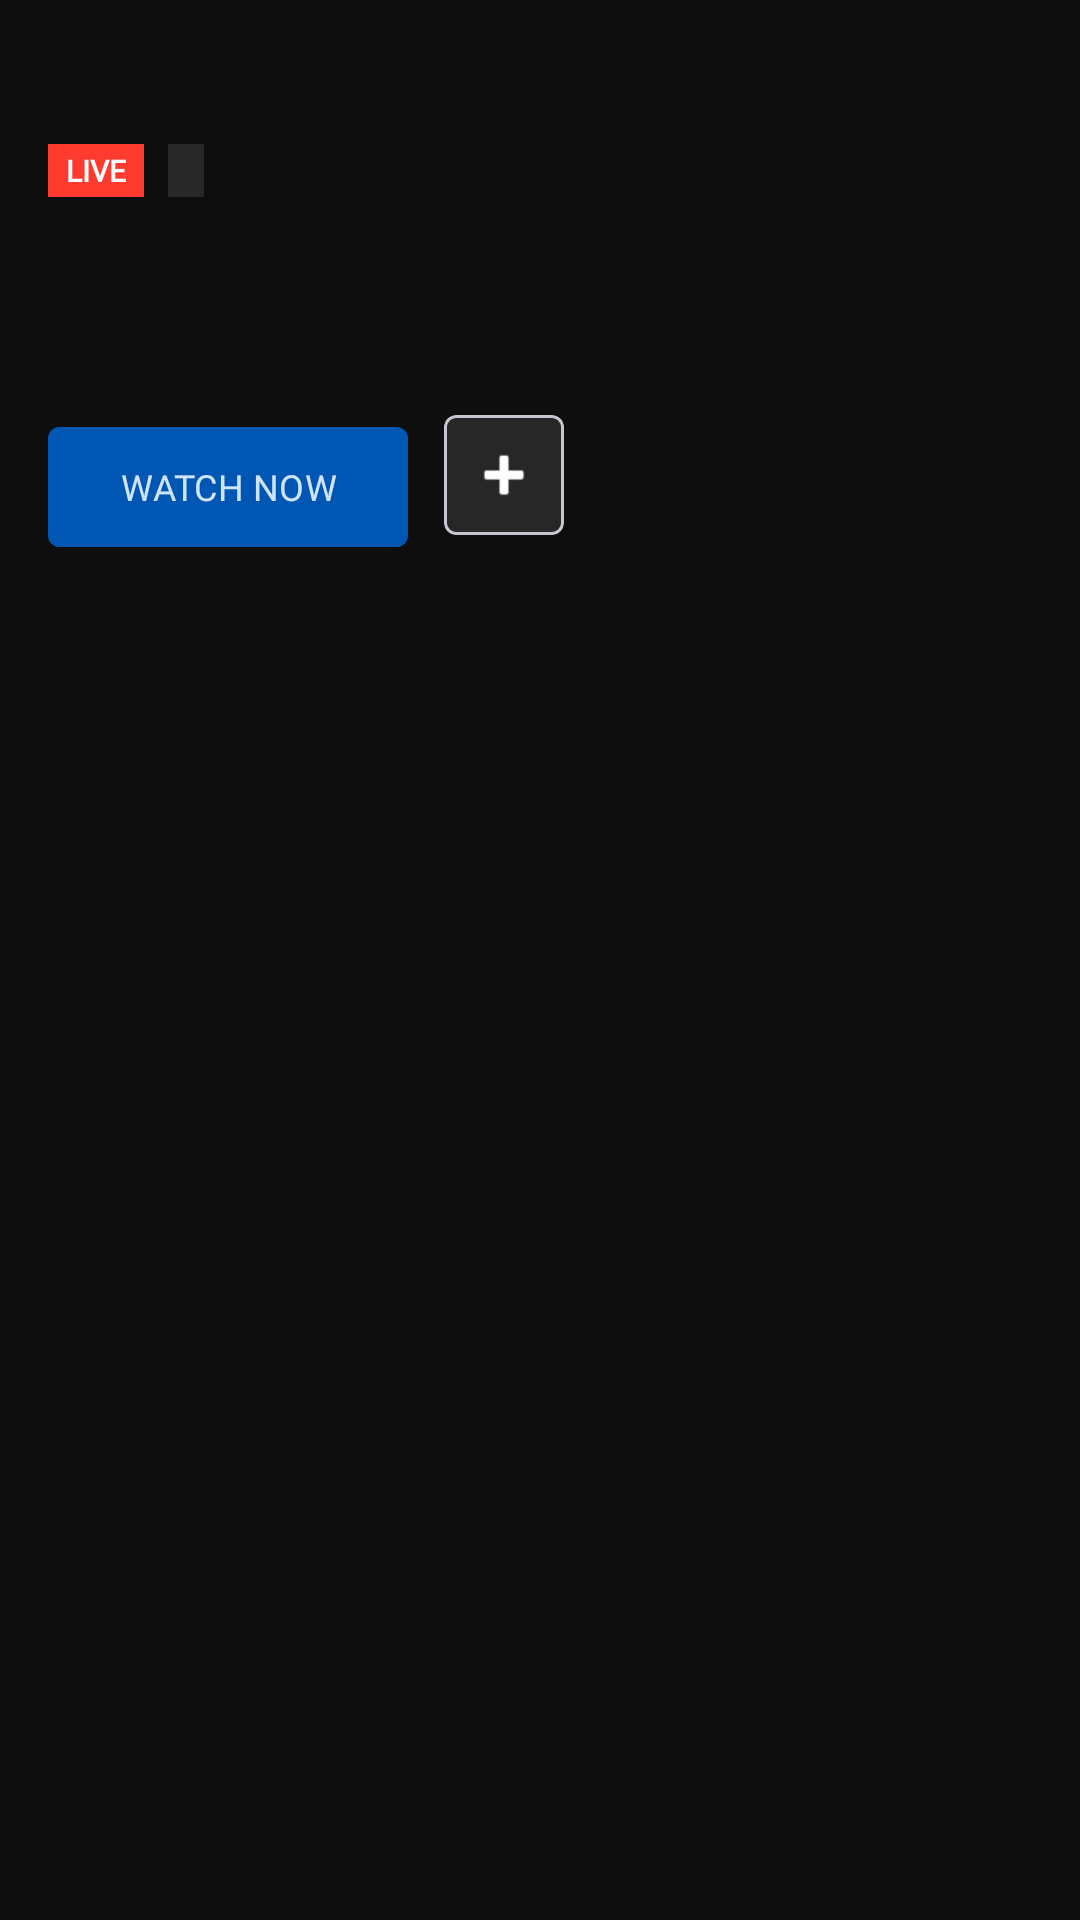

Locate icon controls on the screen. Image size 1080x1920, boxes as (x1, y1, x2, y2).
add: (484, 455, 524, 495)
